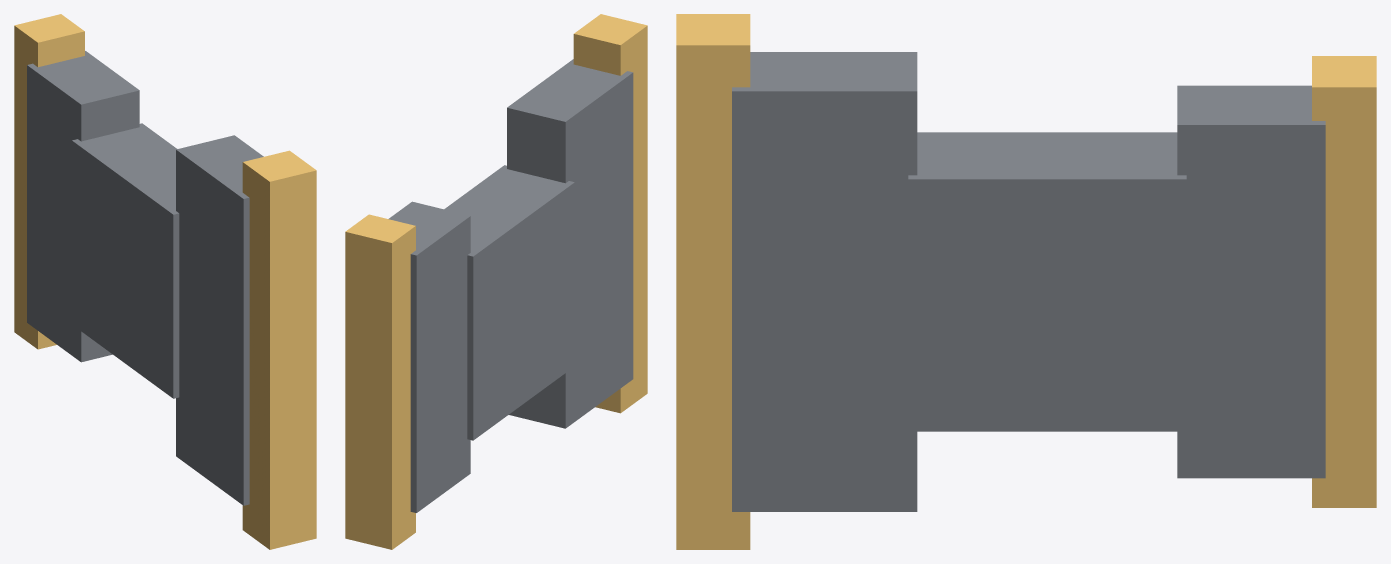
Rendered from axe.glb.
The picture shows the model from 3 angles, left to right: view 1: azimuth 30°, elevation 25°; view 2: azimuth 150°, elevation 25°; view 3: azimuth 270°, elevation 25°; orthographic projection. The views are drawn at different scales.
Visible parts, largest first — view 1: body; view 2: body; view 3: body.
Boxes of the visible parts, x1=… form: body: x1=14, y1=14, x2=316, y2=549; body: x1=345, y1=14, x2=647, y2=549; body: x1=676, y1=14, x2=1376, y2=549.
Size of the model in its own units: 0.12 by 0.6 by 0.755.
